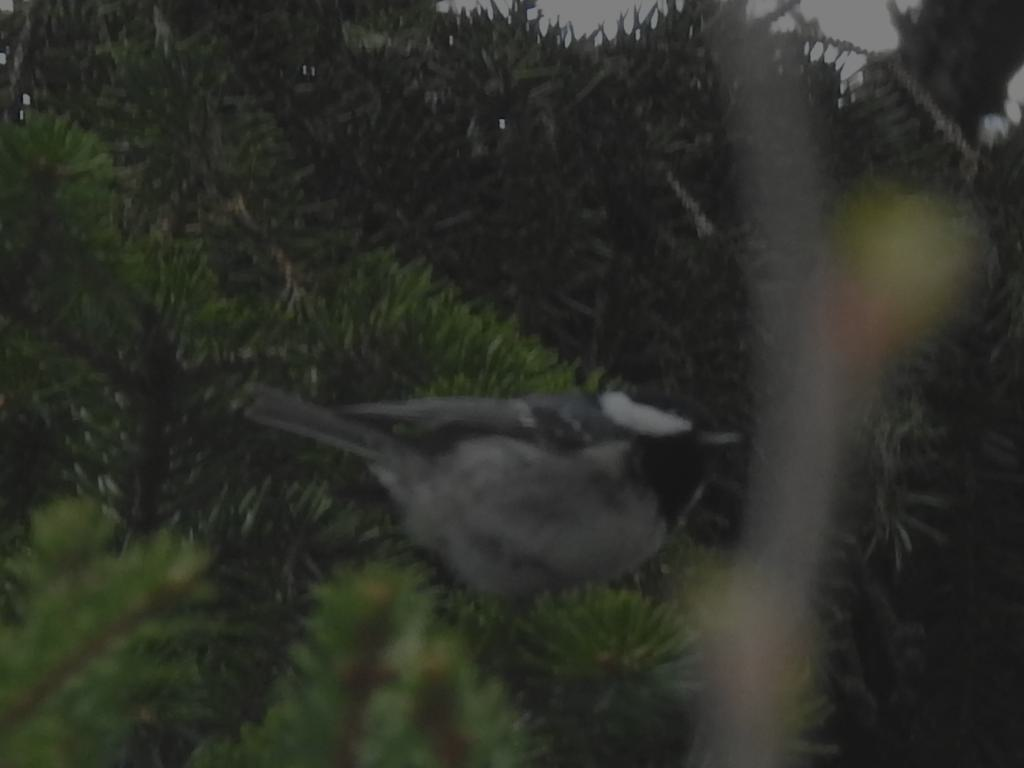PeriparusAter: (244, 390, 741, 602)
